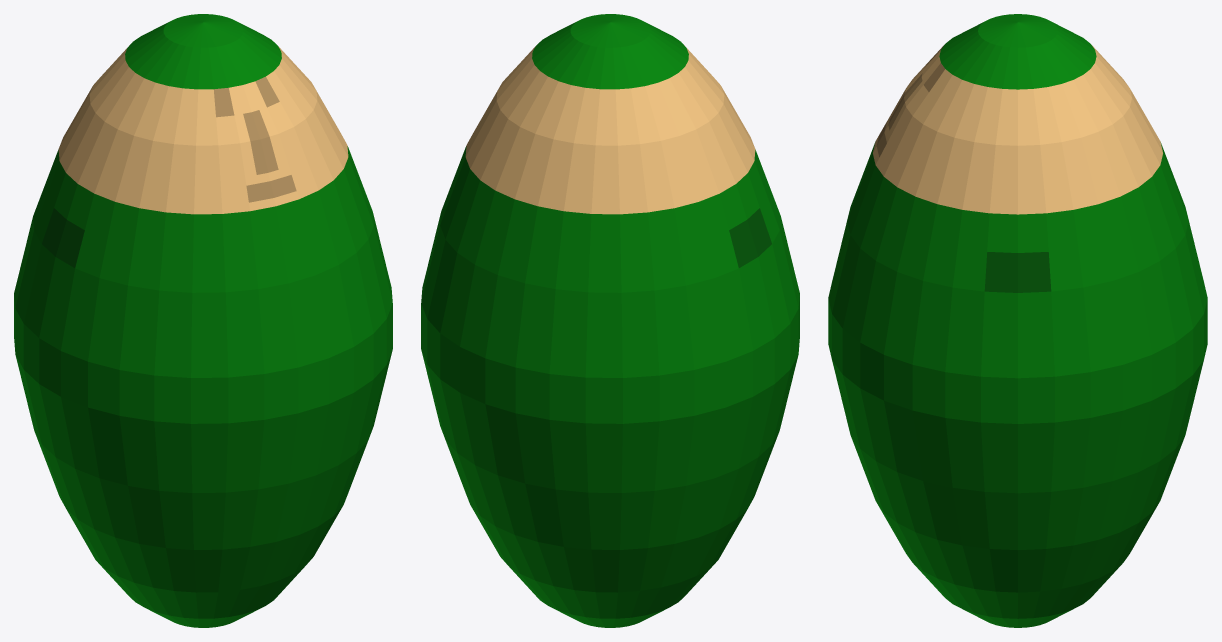
File: playerBean.glb
3 views of the same model, side by side, from view 1: azimuth 30°, elevation 25°; view 2: azimuth 150°, elevation 25°; view 3: azimuth 270°, elevation 25° (orthographic).
Parts seen in each view (by area): view 1: Sphere_2_175cm_body_2, Sphere_2_175cm_head_2; view 2: Sphere_2_175cm_body_2, Sphere_2_175cm_head_2; view 3: Sphere_2_175cm_body_2, Sphere_2_175cm_head_2.
Boxes of the visible parts, x1,y1,x2,y2 form: Sphere_2_175cm_body_2: (14,146,392,627); Sphere_2_175cm_head_2: (58,14,348,214); Sphere_2_175cm_body_2: (421,146,799,627); Sphere_2_175cm_head_2: (465,14,755,214); Sphere_2_175cm_body_2: (828,142,1207,627); Sphere_2_175cm_head_2: (873,14,1162,214).
Size of the model in its own units: 1.85 by 3.21 by 1.85.
